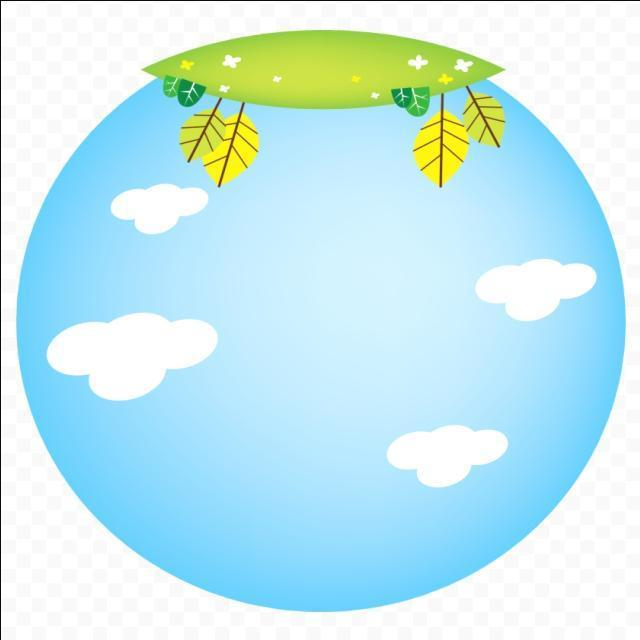Circle: (12, 25, 626, 612)
